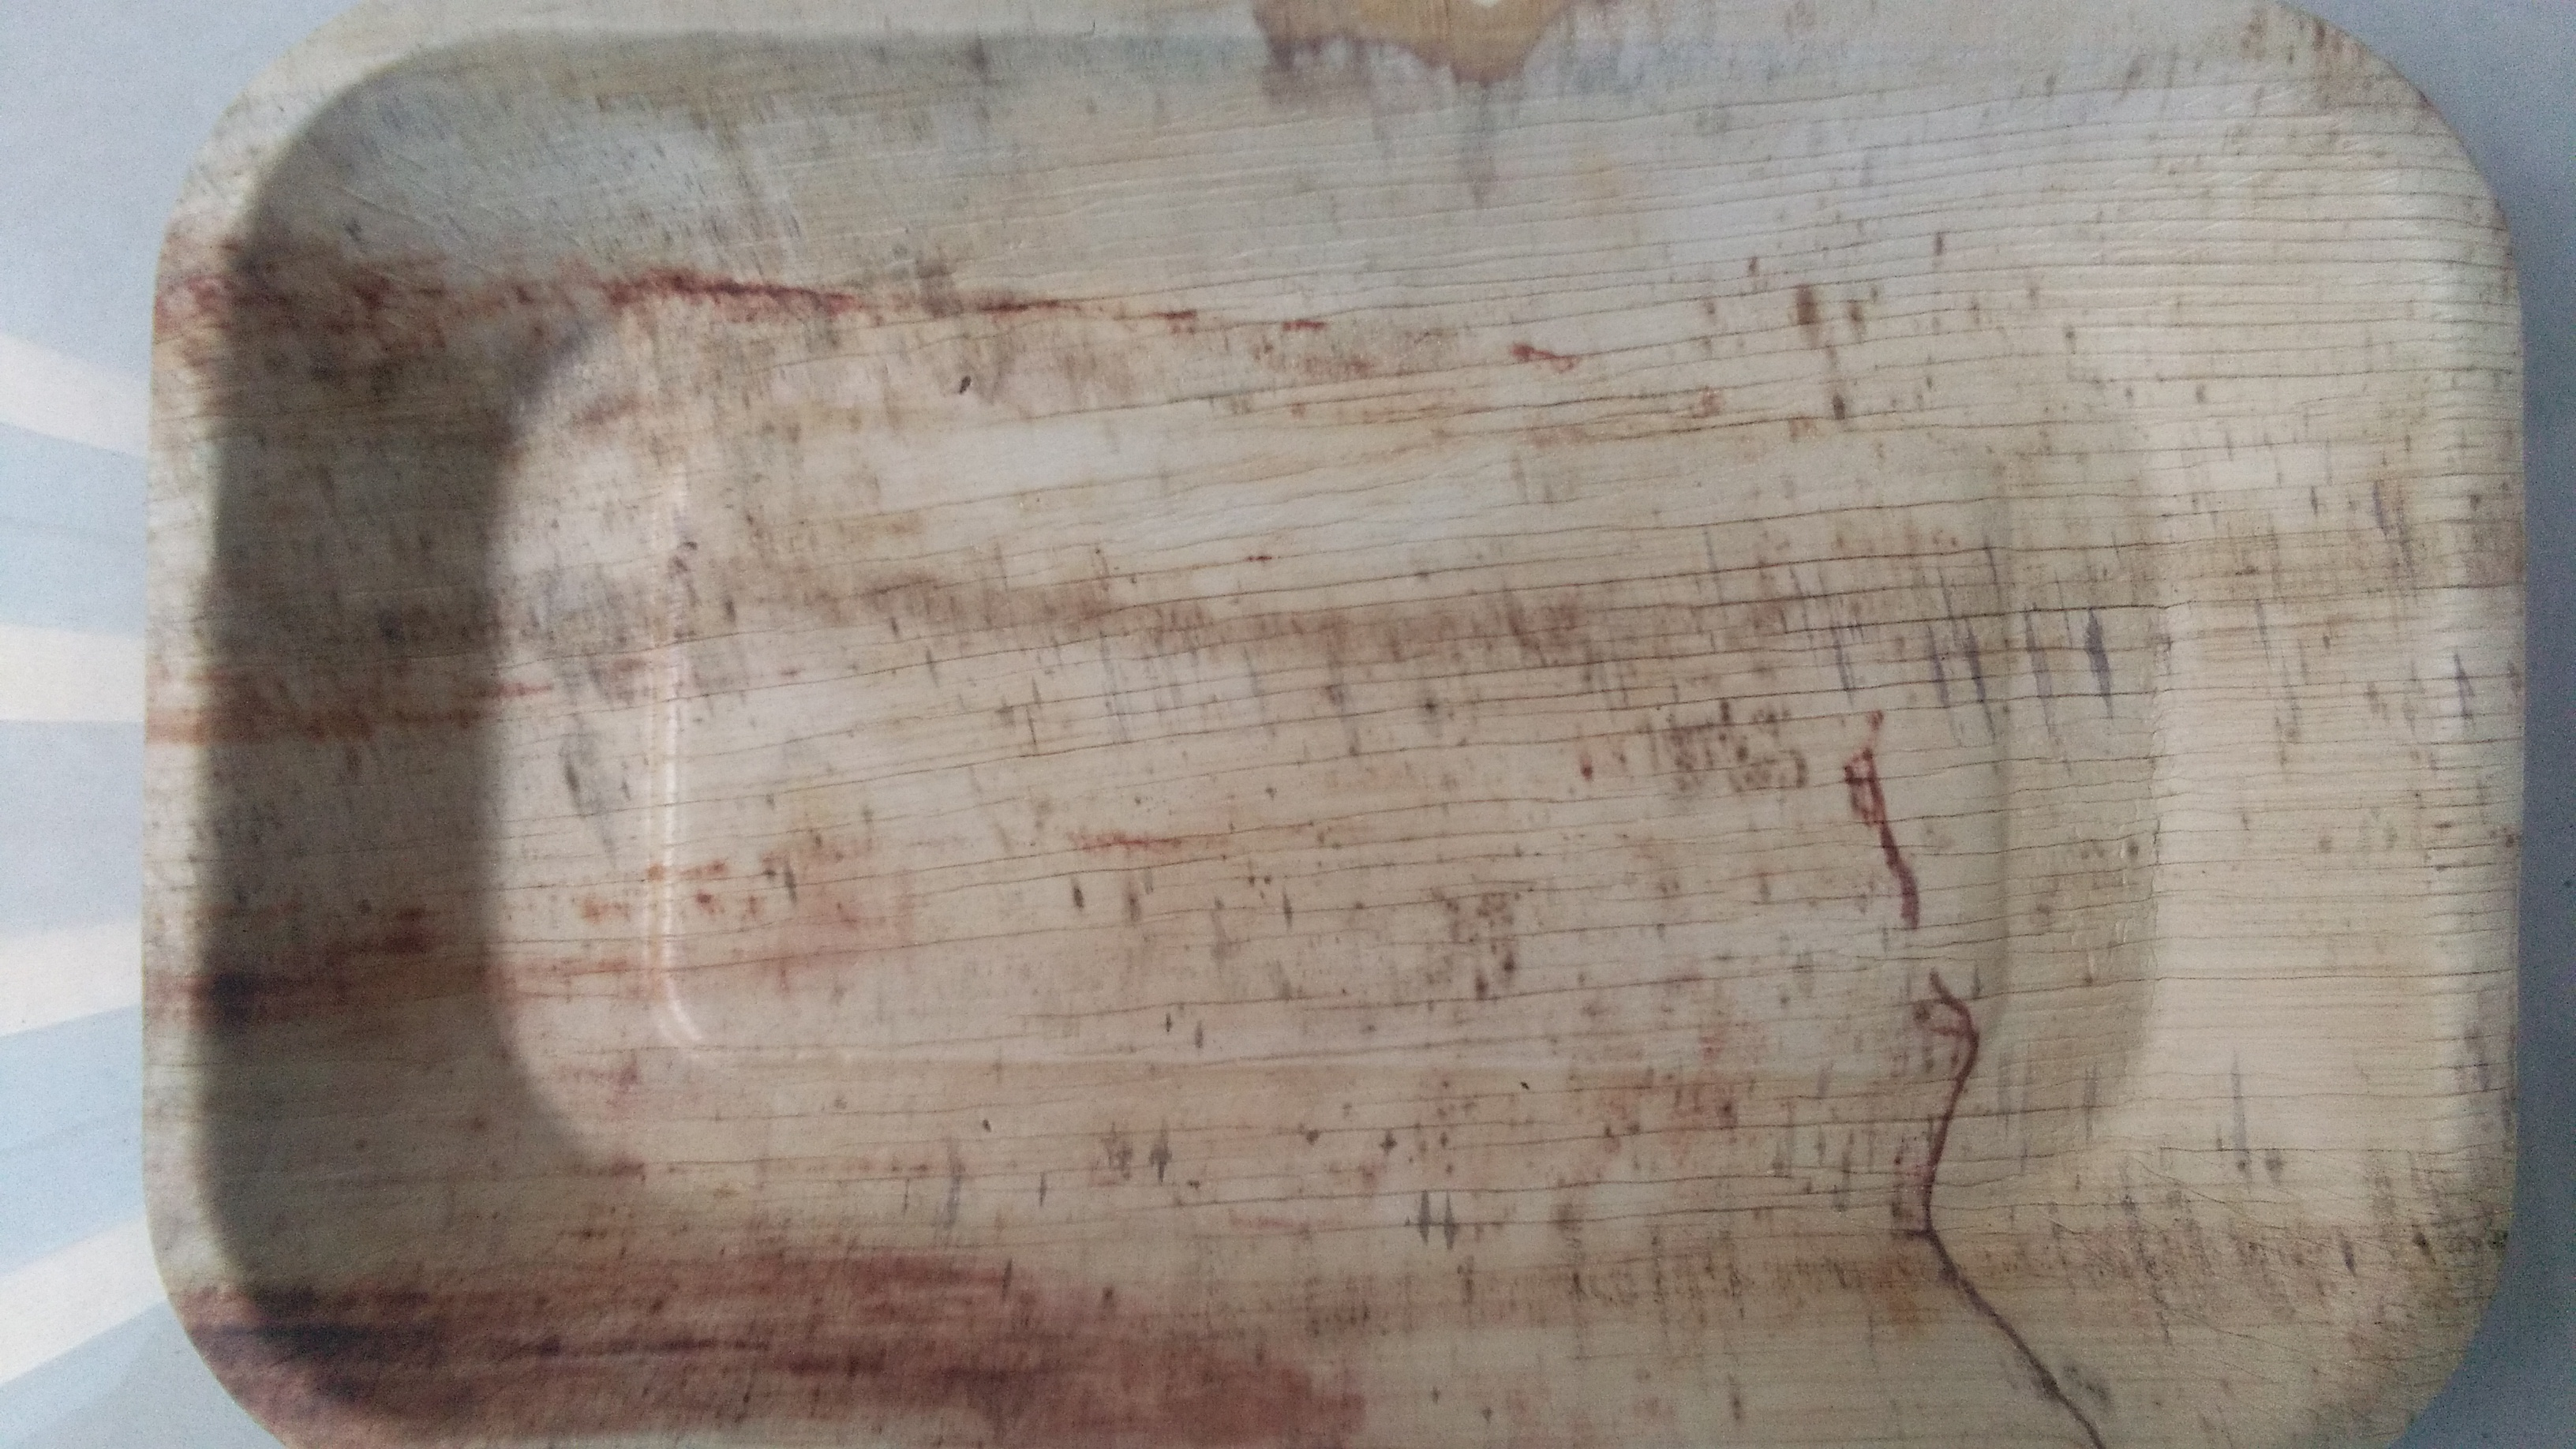areca plate: (154, 11, 2503, 1440)
